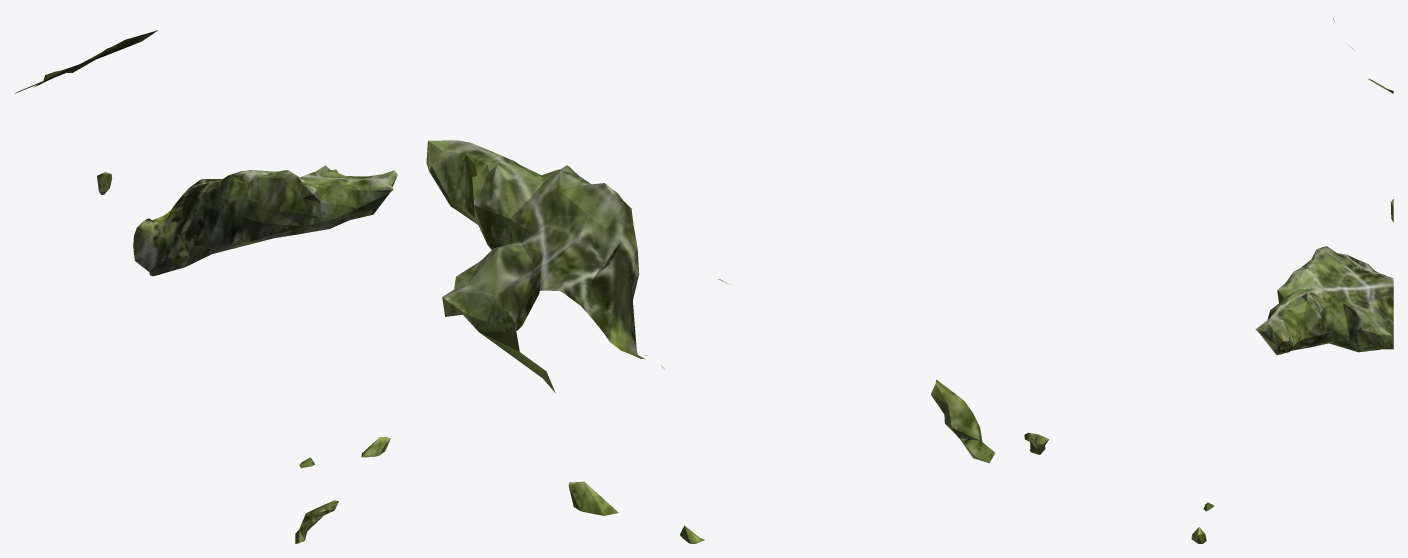
3 views of the same model, side by side, from view 1: azimuth 30°, elevation 25°; view 2: azimuth 150°, elevation 25°; view 3: azimuth 270°, elevation 25° (orthographic). The views are drawn at different scales.
Size of the model in its own units: 2.54 by 2.95 by 2.49.
1 material, 1 textured.
